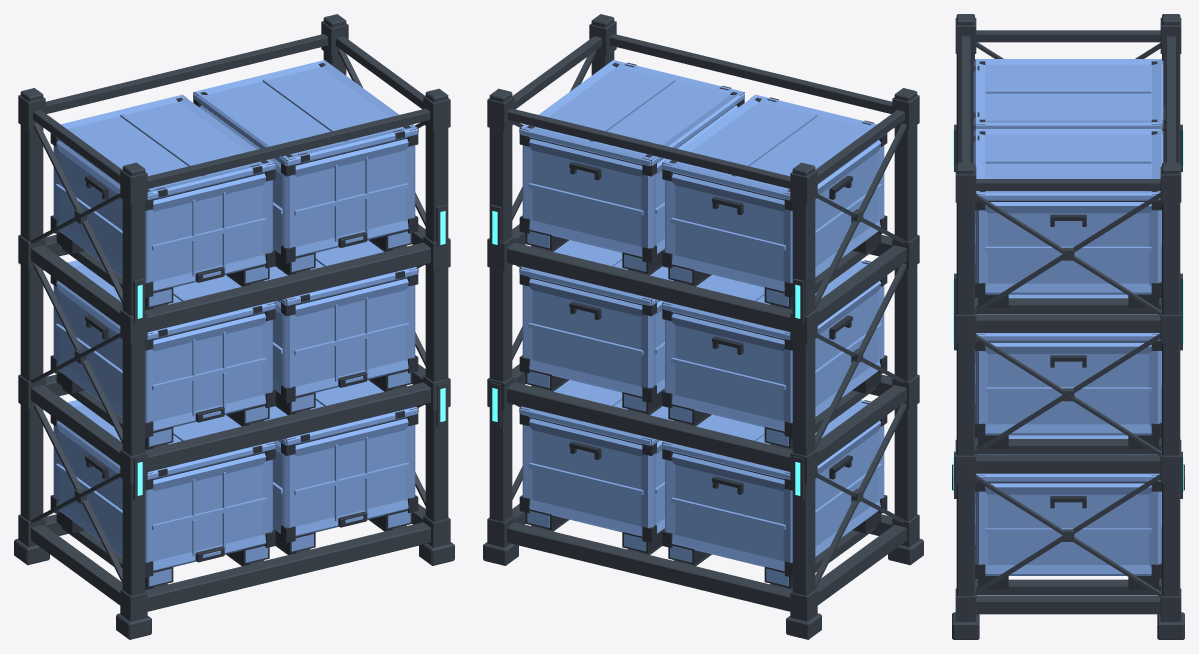
File: rack_loaded.glb
The picture shows the model from 3 angles, left to right: view 1: azimuth 30°, elevation 25°; view 2: azimuth 150°, elevation 25°; view 3: azimuth 270°, elevation 25°; orthographic projection.
Parts seen in each view (by area): view 1: Rack_Frame, Cargo_Body_05, Cargo_Body_06, Cargo_Body_03, Cargo_Body, Cargo_Body_04, Cargo_Body_02, Cargo_Trim_05, Cargo_Trim_03, Cargo_Trim, Cargo_Trim_06, Cargo_Trim_02 (+2 smaller); view 2: Rack_Frame, Cargo_Body_05, Cargo_Body_06, Cargo_Body_03, Cargo_Body, Cargo_Body_02, Cargo_Body_04, Cargo_Trim_05, Cargo_Trim_03, Cargo_Trim, Cargo_Trim_06, Cargo_Trim_04 (+2 smaller); view 3: Rack_Frame, Cargo_Body_06, Cargo_Body_04, Cargo_Body_02, Cargo_Body_05, Cargo_Trim_02, Cargo_Trim_04, Cargo_Trim_06.
Boxes of the visible parts, bbox=[...] form: Rack_Frame: bbox=[14, 14, 454, 639]; Cargo_Body_05: bbox=[51, 95, 275, 306]; Cargo_Body_06: bbox=[193, 60, 418, 271]; Cargo_Body_03: bbox=[53, 260, 275, 446]; Cargo_Body: bbox=[53, 400, 275, 586]; Cargo_Body_04: bbox=[264, 240, 418, 411]; Cargo_Body_02: bbox=[264, 380, 418, 551]; Cargo_Trim_05: bbox=[50, 95, 275, 308]; Cargo_Trim_03: bbox=[50, 275, 275, 448]; Cargo_Trim: bbox=[50, 415, 275, 588]; Cargo_Trim_06: bbox=[193, 60, 418, 273]; Cargo_Trim_02: bbox=[274, 407, 418, 553]; Rack_Frame: bbox=[483, 14, 923, 639]; Cargo_Body_05: bbox=[662, 95, 886, 306]; Cargo_Body_06: bbox=[519, 60, 744, 271]; Cargo_Body_03: bbox=[662, 260, 884, 446]; Cargo_Body: bbox=[662, 400, 884, 586]; Cargo_Body_02: bbox=[519, 380, 673, 551]; Cargo_Body_04: bbox=[519, 240, 673, 411]; Cargo_Trim_05: bbox=[662, 95, 887, 308]; Cargo_Trim_03: bbox=[662, 260, 887, 448]; Cargo_Trim: bbox=[662, 400, 887, 588]; Cargo_Trim_06: bbox=[519, 60, 744, 273]; Cargo_Trim_04: bbox=[519, 267, 663, 413]; Rack_Frame: bbox=[952, 14, 1184, 639]; Cargo_Body_06: bbox=[973, 129, 1163, 305]; Cargo_Body_04: bbox=[975, 294, 1161, 445]; Cargo_Body_02: bbox=[975, 435, 1161, 586]; Cargo_Body_05: bbox=[973, 59, 1163, 129]; Cargo_Trim_02: bbox=[975, 475, 1161, 589]; Cargo_Trim_04: bbox=[975, 334, 1161, 448]; Cargo_Trim_06: bbox=[973, 129, 1162, 307].
Bounding box in the file's own units: 2.2 × 3 × 1.35.
